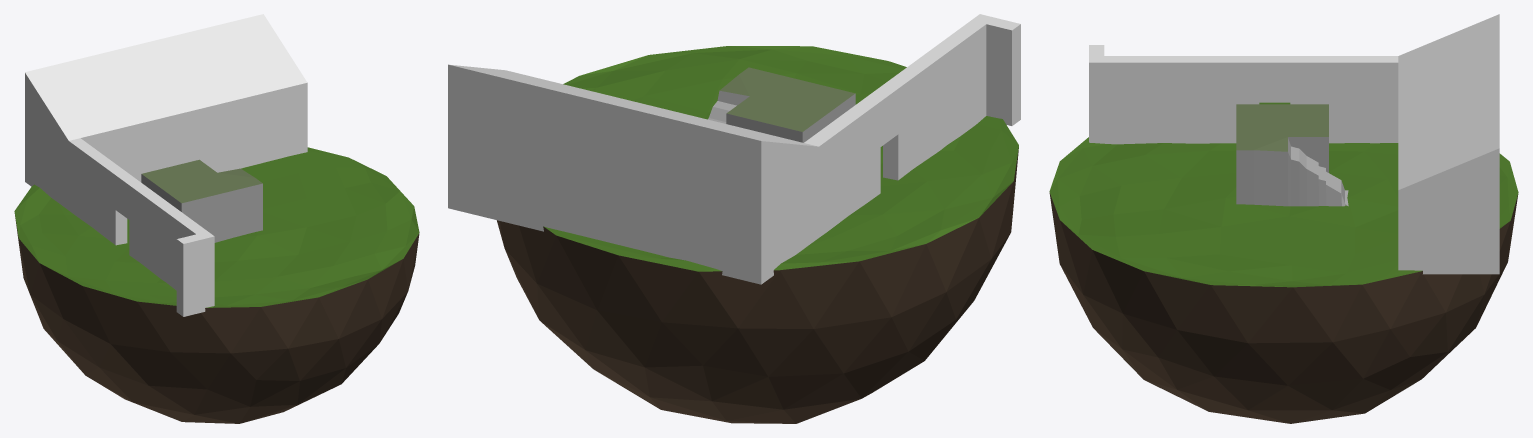
File: Level1F.fbx
The picture shows the model from 3 angles, left to right: view 1: azimuth 30°, elevation 25°; view 2: azimuth 150°, elevation 25°; view 3: azimuth 270°, elevation 25°; orthographic projection. The views are drawn at different scales.
Parts seen in each view (by area): view 1: Island, FakeBuilding, WallWHole, Platform, RandomWall; view 2: Island, FakeBuilding, WallWHole, Platform, RandomWall; view 3: Island, FakeBuilding, WallWHole, Platform.
Boxes of the visible parts, x1,y1,x2,y2 form: Island: [14, 147, 419, 423]; FakeBuilding: [25, 14, 307, 204]; WallWHole: [62, 136, 214, 312]; Platform: [141, 159, 262, 242]; RandomWall: [176, 234, 202, 316]; Island: [497, 46, 1018, 423]; FakeBuilding: [448, 64, 818, 284]; WallWHole: [804, 14, 994, 237]; Platform: [708, 67, 855, 142]; RandomWall: [986, 17, 1020, 125]; Island: [1049, 102, 1518, 423]; FakeBuilding: [1398, 14, 1499, 274]; WallWHole: [1089, 56, 1398, 144]; Platform: [1236, 104, 1348, 206].
Size of the model in its own units: 29.9 by 23.75 by 30.32.
